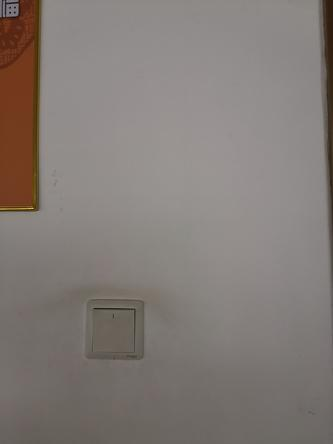switch: (88, 303, 143, 356)
